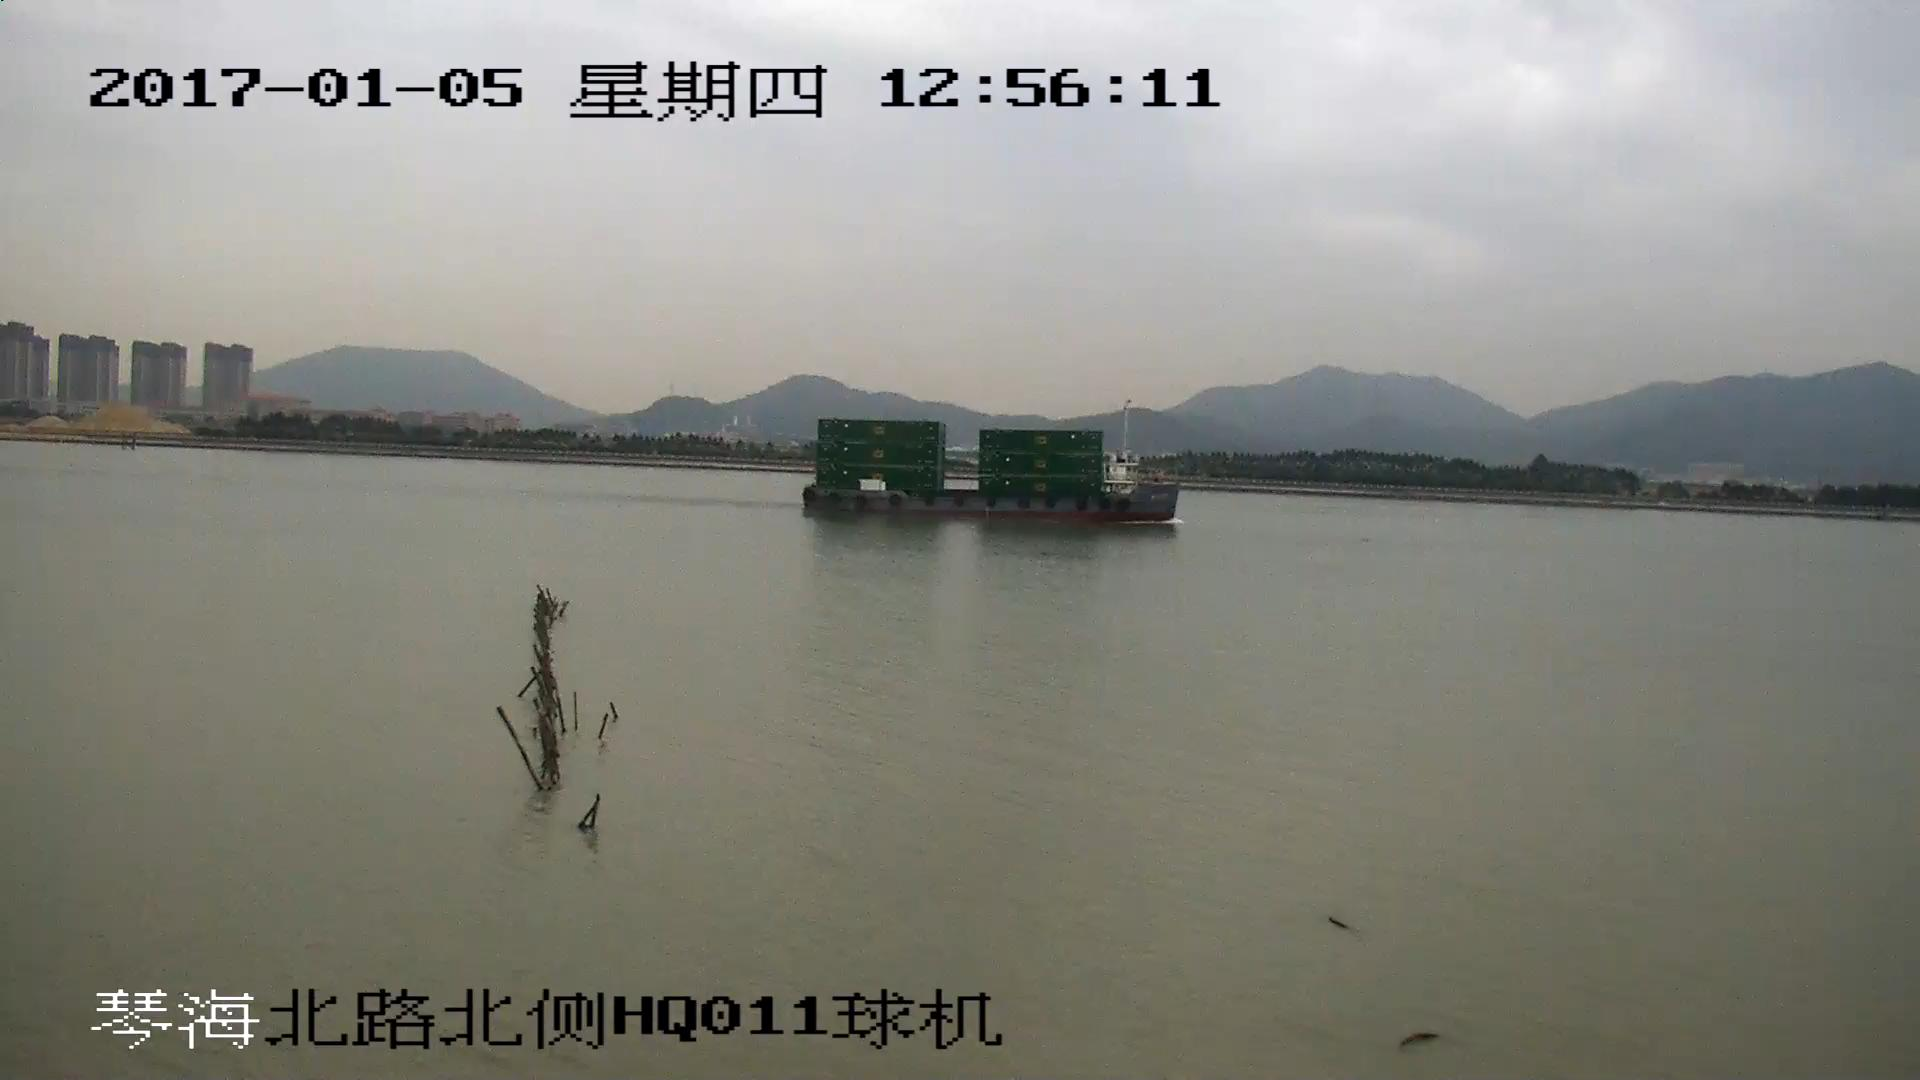container ship: (803, 419, 1177, 527)
